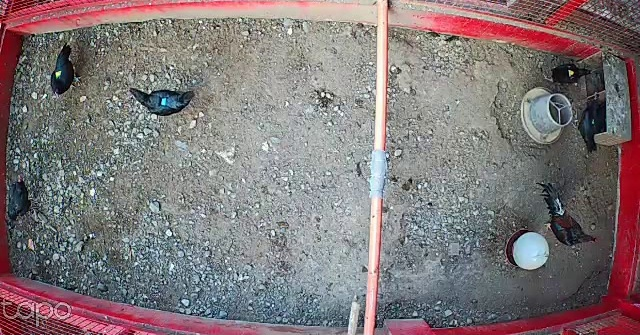Chicken: (567, 87, 608, 159), (3, 174, 45, 226), (127, 85, 197, 116), (47, 43, 83, 96), (538, 58, 595, 88)
Rooster: (534, 180, 600, 247)
Saddle_Color_Blue: (162, 97, 168, 107)
Saddle_Color_Yellow: (568, 70, 576, 78)
Saddle_Color_YellowGreen: (55, 70, 62, 81)
